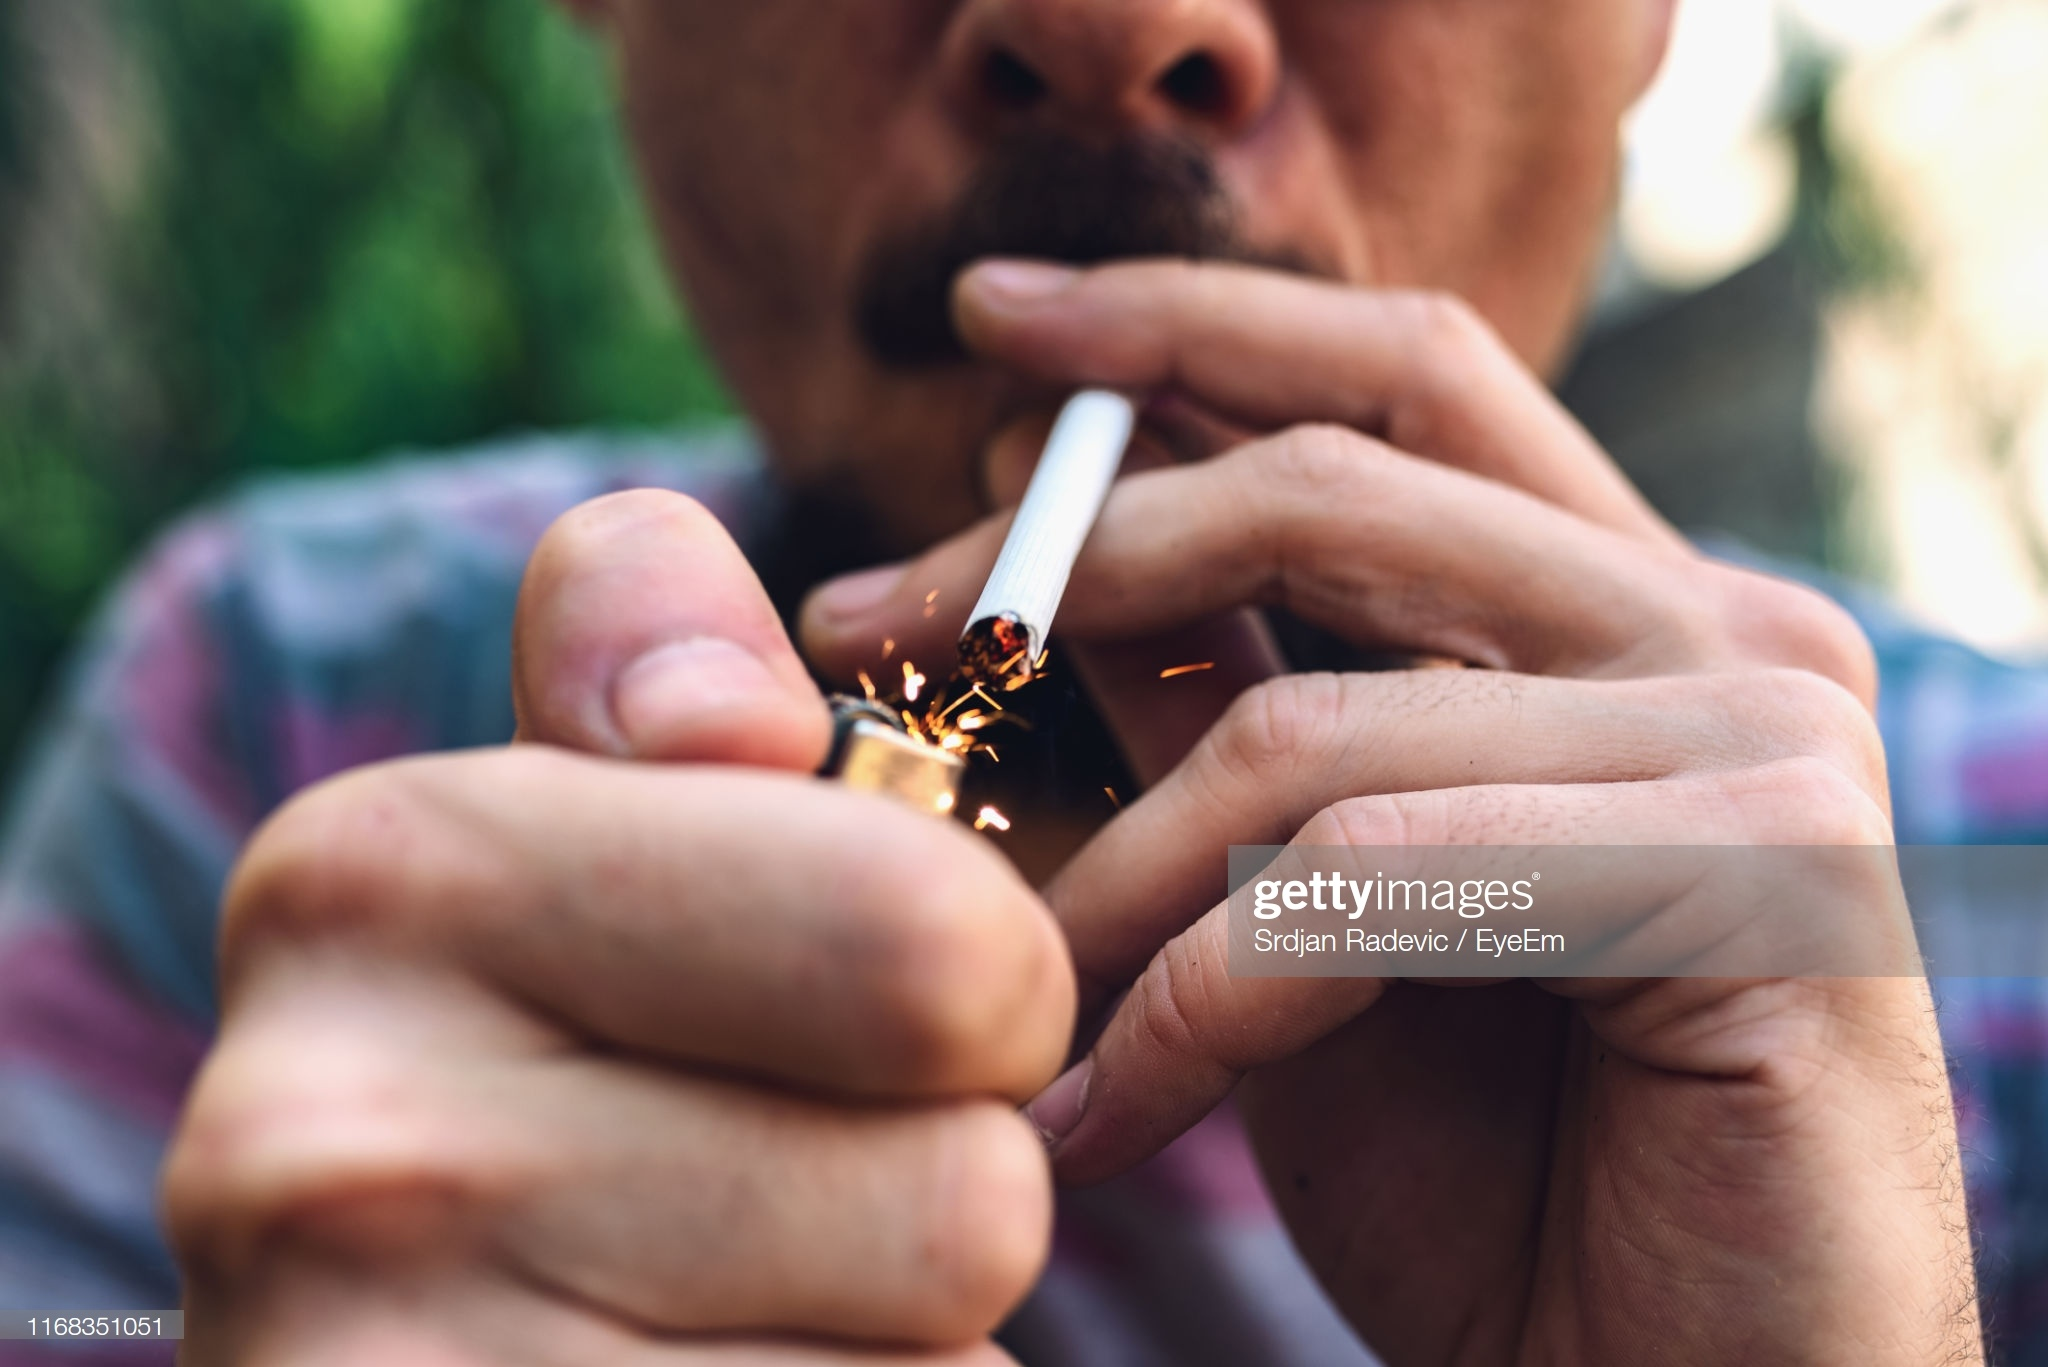sigaretta: (958, 363, 1153, 703)
